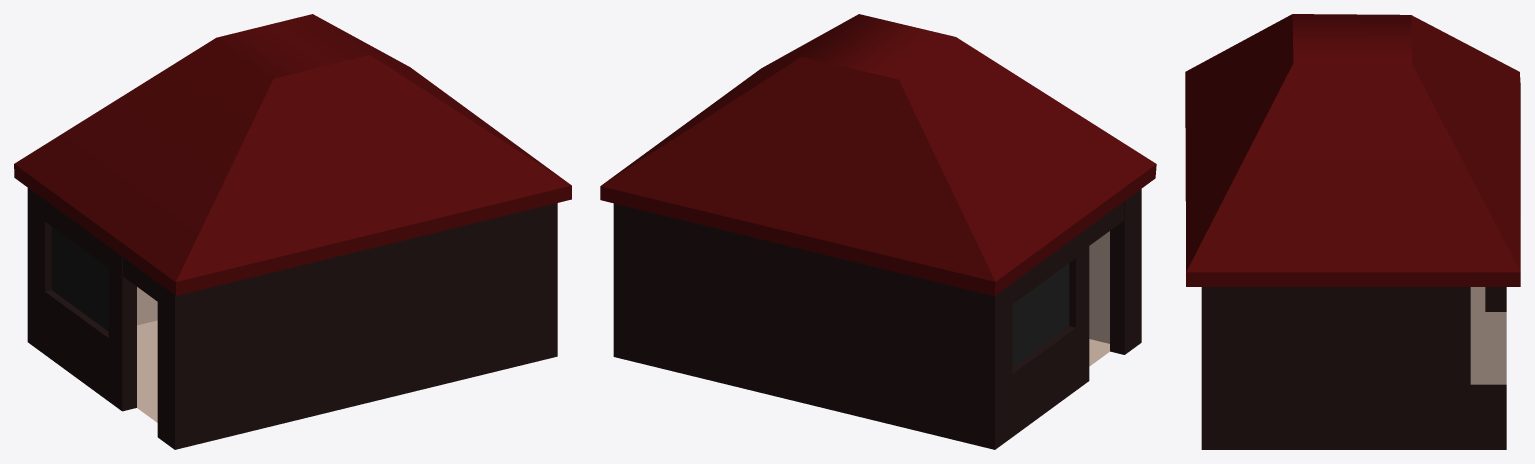
Rendered from tabakladen_lighter.dae.
3 views of the same model, side by side, from view 1: azimuth 30°, elevation 25°; view 2: azimuth 150°, elevation 25°; view 3: azimuth 270°, elevation 25° (orthographic). The views are drawn at different scales.
Parts seen in each view (by area): view 1: roof, house, window2, pCube2; view 2: roof, house, window2, pCube2; view 3: roof, house.
Part boxes in pixels (x1,y1,x2,y2): roof: (14,14,571,295); house: (27,188,557,449); window2: (51,227,108,331); pCube2: (123,257,157,301); roof: (600,14,1156,296); house: (613,189,1141,449); window2: (1012,263,1069,367); pCube2: (1089,202,1123,245); roof: (1185,14,1520,286); house: (1201,287,1506,449).
Bounding box in the file's own units: 6.21 × 4.56 × 4.4.
